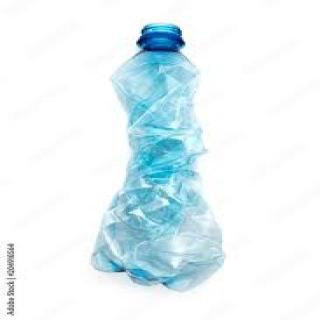Anorganik: (91, 13, 245, 296)
